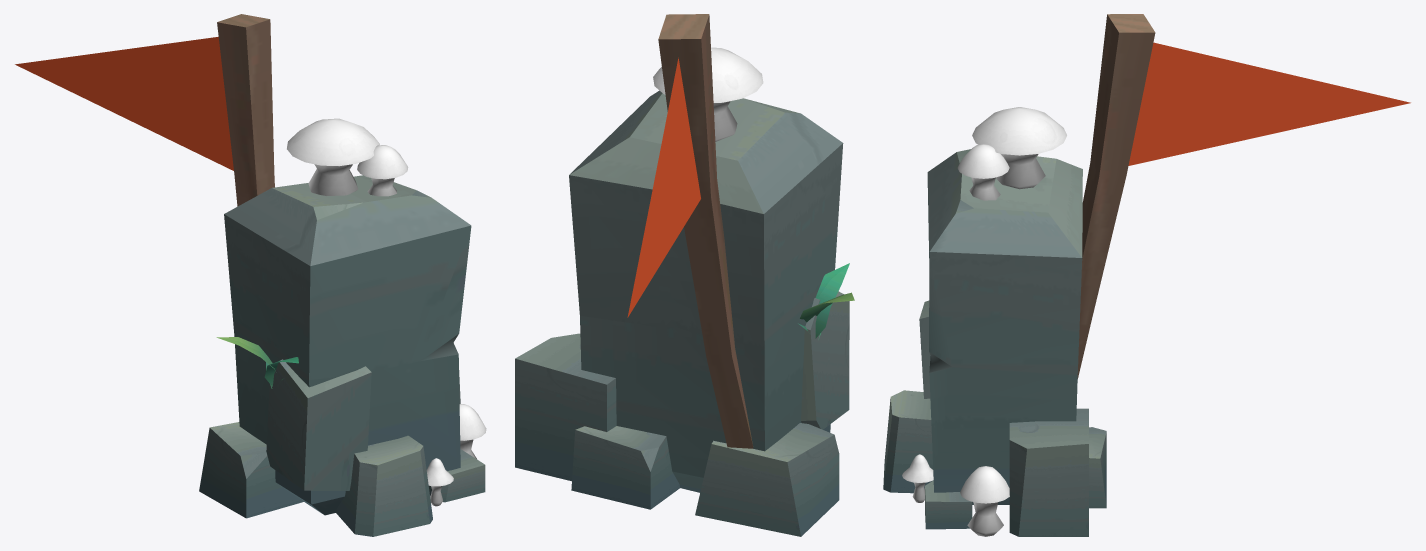
The model's file is Pillar1B-005_02_10_4851.fbx.
3 views of the same model, side by side, from view 1: azimuth 30°, elevation 25°; view 2: azimuth 150°, elevation 25°; view 3: azimuth 270°, elevation 25° (orthographic). The views are drawn at different scales.
Parts seen in each view (by area): view 1: Monolith2, Flag1.001 (1), Wood1.002 (1), Shroom1 (2), Shroom3 (2), Shroom3 (1), Shroom2 (1), Plant1 (1); view 2: Monolith2, Wood1.002 (1), Flag1.001 (1), Shroom1 (2), Plant1 (1); view 3: Monolith2, Flag1.001 (1), Wood1.002 (1), Shroom1 (2), Shroom3 (1), Shroom3 (2), Shroom2 (1).
Part boxes in pixels (bbox=[...]): Monolith2: bbox=[199, 175, 485, 536]; Flag1.001 (1): bbox=[15, 36, 233, 170]; Wood1.002 (1): bbox=[217, 14, 274, 206]; Shroom1 (2): bbox=[287, 118, 379, 195]; Shroom3 (2): bbox=[357, 145, 408, 196]; Shroom3 (1): bbox=[459, 404, 486, 458]; Shroom2 (1): bbox=[426, 458, 453, 506]; Plant1 (1): bbox=[216, 337, 298, 388]; Monolith2: bbox=[515, 90, 849, 536]; Wood1.002 (1): bbox=[658, 14, 753, 448]; Flag1.001 (1): bbox=[627, 57, 700, 317]; Shroom1 (2): bbox=[653, 47, 763, 141]; Plant1 (1): bbox=[798, 263, 854, 339]; Monolith2: bbox=[883, 149, 1106, 536]; Flag1.001 (1): bbox=[1128, 42, 1410, 165]; Wood1.002 (1): bbox=[1077, 14, 1155, 378]; Shroom1 (2): bbox=[972, 107, 1066, 189]; Shroom3 (1): bbox=[960, 466, 1009, 536]; Shroom3 (2): bbox=[957, 144, 1009, 200]; Shroom2 (1): bbox=[902, 454, 933, 502].
Size of the model in its own units: 2.79 by 4.55 by 4.88.
